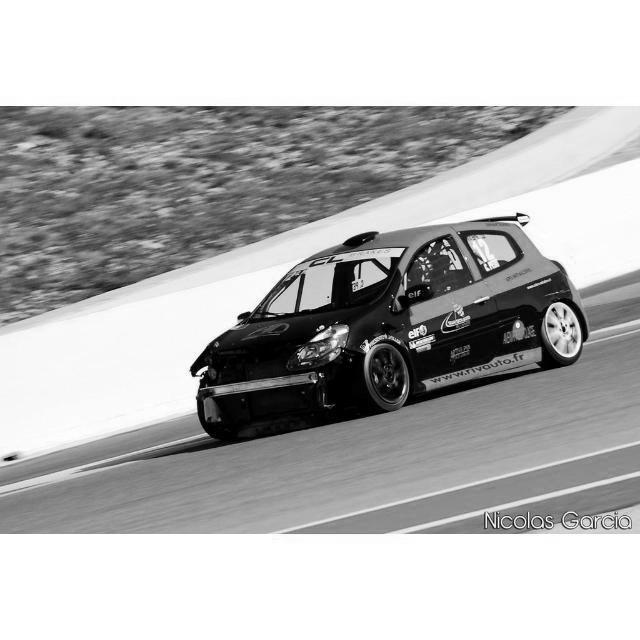bonnet-dent: (197, 312, 340, 375)
